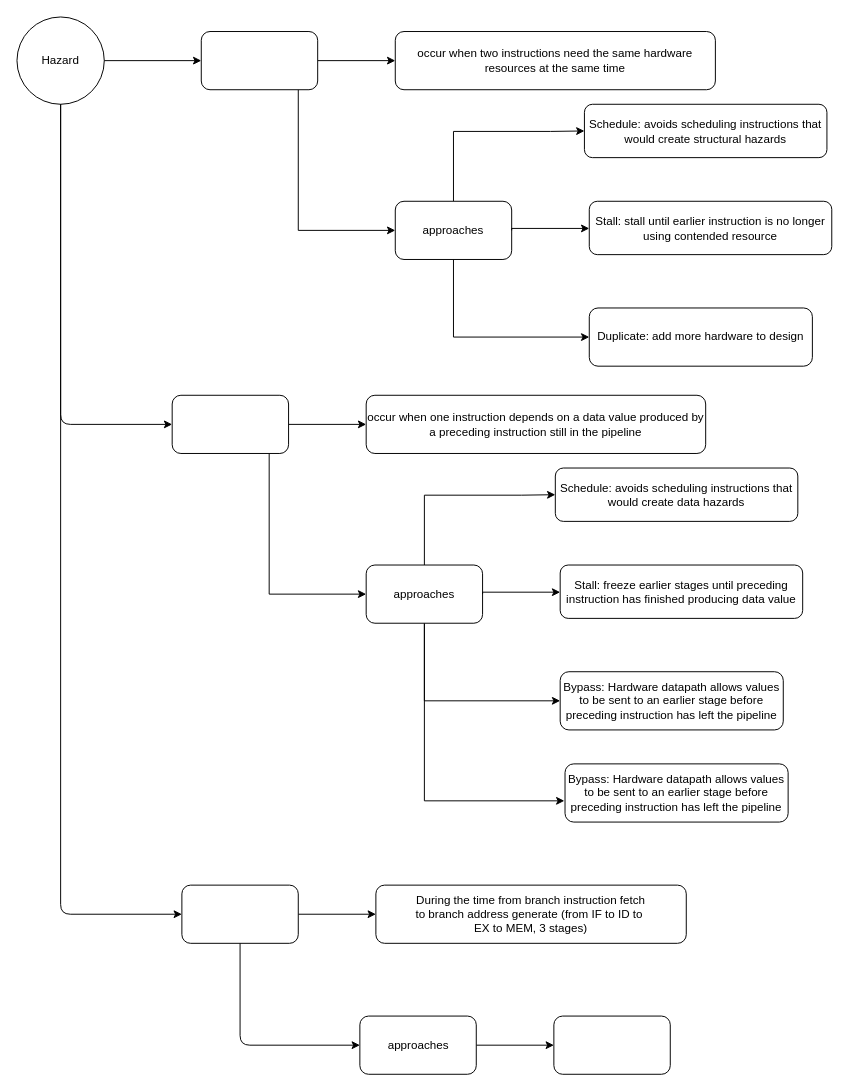
The diagram is 849 pixels wide and 1091 high, and some of its shapes have lost their labels. The box of each missing label's shape, as (x1, y1, x2, y2) in pixels:
Control hazard: (181, 884, 298, 943)
Data hazard: (171, 394, 289, 453)
Flushing: (553, 1015, 670, 1074)
Structural hazard: (200, 31, 318, 90)
